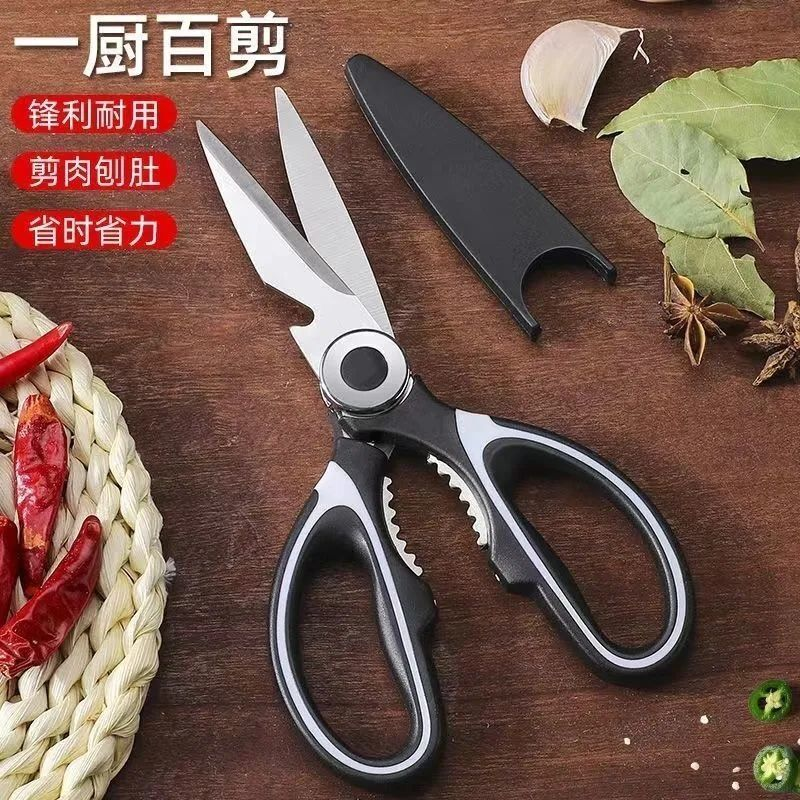scissors: (179, 82, 723, 793)
